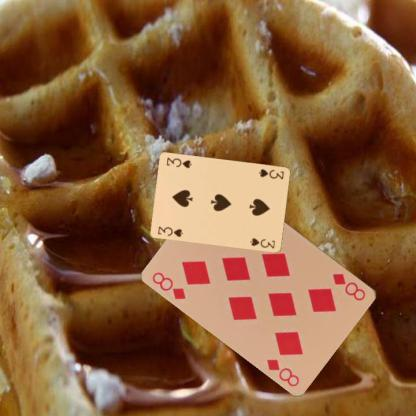3s: (256, 166, 285, 180), (156, 224, 184, 238)
8d: (150, 269, 187, 302), (330, 271, 367, 302)
